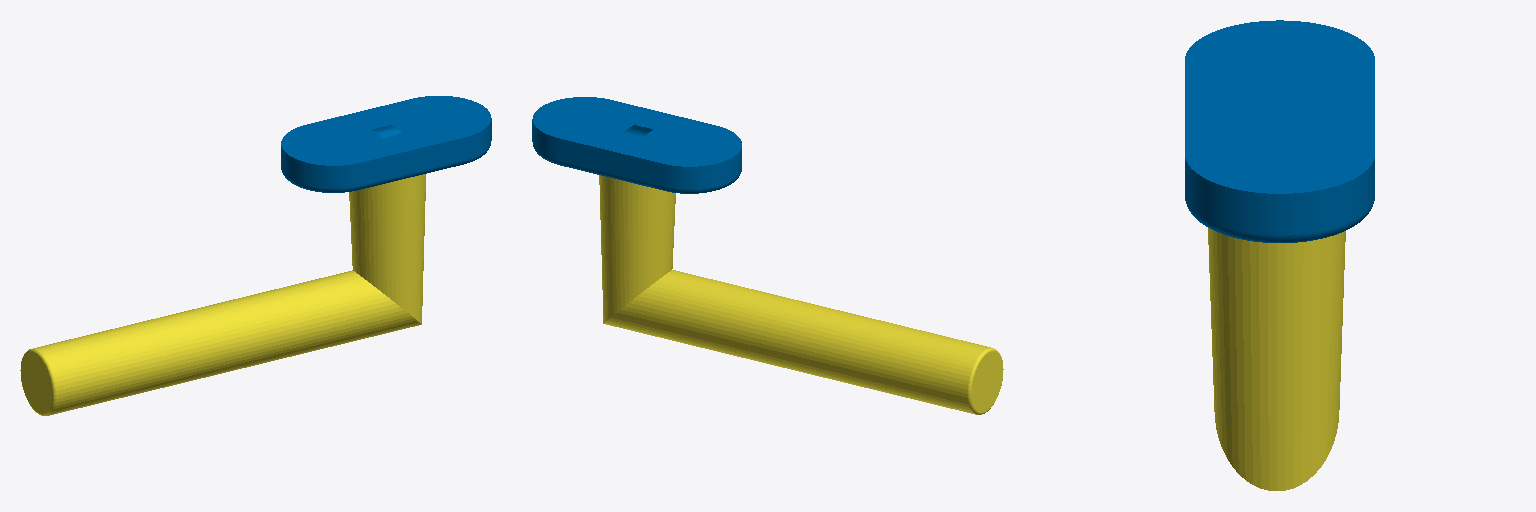
URDF robot description (window):
<robot name="window">
	<link name="base" />
	<link name="link_0">
		<visual name="out-frame">
			<origin xyz="0 0 0" />
			<geometry>
				<mesh filename="texture_dae/untitled.dae" scale="1 1 1" />
			</geometry>
		</visual>
		<collision>
			<origin xyz="0 0 0" />
			<geometry>
				<mesh filename="texture_dae/untitled.dae" scale="1 1 1" />
			</geometry>
		</collision>
	</link>
	<joint name="joint_0" type="fixed">
		<origin rpy="1.570796326794897 0 -1.570796326794897" xyz="0 0 0" />
		<child link="link_0" />
		<parent link="base" />
	</joint>
	<link name="link_1">
		<visual name="surf-board">
			<origin xyz="0.23565320670604706 -0.34836465252022536 0" />
			<geometry>
				<mesh filename="texture_dae/untitled1.dae" scale="1 1 1" />
			</geometry>
		</visual>
		<collision>
			<origin xyz="0.23565320670604706 -0.34836465252022536 0" />
			<geometry>
				<mesh filename="texture_dae/untitled1.dae" scale="1 1 1" />
			</geometry>
		</collision>
	</link>
	<joint name="joint_1" type="revolute">
		<origin xyz="-0.23565320670604706 0.34836465252022536 0" />
		<axis xyz="0 -1 0" />
		<child link="link_1" />
		<parent link="link_0" />
		<limit lower="0" upper="1.5079644737231006" />
	</joint>
	<link name="link_2">
		<visual name="handle">
			<origin xyz="0 0 0" />
			<geometry>
				<mesh filename="texture_dae/9969517-handle.dae" scale="1.110960312436915 1.110960312436915 1.110960312436915" />
			</geometry>
		</visual>
		<collision>
			<origin xyz="0 0 0" />
			<geometry>
				<mesh filename="texture_dae/9969517-handle.dae" scale="1.110960312436915 1.110960312436915 1.110960312436915" />
			</geometry>
		</collision>
	</link>
	<joint name="joint_2" type="revolute">
		<origin xyz="0 0 0" />
		<child link="link_2" />
		<parent link="link_3" />
		<axis xyz="0 0 1" />
		<limit lower="0" upper="0" />
	</joint>
	<link name="link_3">
		<visual name="lock">
			<origin xyz="0 0 0" />
			<geometry>
				<mesh filename="texture_dae/9969517-lock.dae" scale="1.110960312436915 1.110960312436915 1.110960312436915" />
			</geometry>
		</visual>
		<collision>
			<origin xyz="0 0 0" />
			<geometry>
				<mesh filename="texture_dae/9969517-lock.dae" scale="1.110960312436915 1.110960312436915 1.110960312436915" />
			</geometry>
		</collision>
	</link>
	<joint name="joint_3" type="fixed">
		<origin xyz="0.44409596992656586 -0.34836465252022536 0.00917094583565014" />
		<child link="link_3" />
		<parent link="link_1" />
	</joint>
</robot>

--- What the picture shows (computed from the rendered views, not written in the file) ---
The picture shows the robot from 3 angles, left to right: view 1: azimuth 30°, elevation 25°; view 2: azimuth 150°, elevation 25°; view 3: azimuth 270°, elevation 25°; orthographic projection.
Robot: window — 5 links, 4 joints (2 revolute, 2 fixed); root link base; default pose: all joints at 0.
Visible links, largest first — view 1: link_2, link_3; view 2: link_2, link_3; view 3: link_3, link_2.
Boxes of the visible links, x1,y1,x2,y2 form: link_2: (20,174,425,415); link_3: (281,96,491,192); link_2: (599,175,1003,414); link_3: (532,97,741,193); link_3: (1185,20,1374,242); link_2: (1208,228,1345,490).
Bounding box of the posed robot: 0.1749 × 0.0355 × 0.0736 m (x, y, z).
2 mesh visuals loaded from 4 distinct referenced files (2 Collada DAE); not drawn: 2 (reference not matched to a file when rendering).
